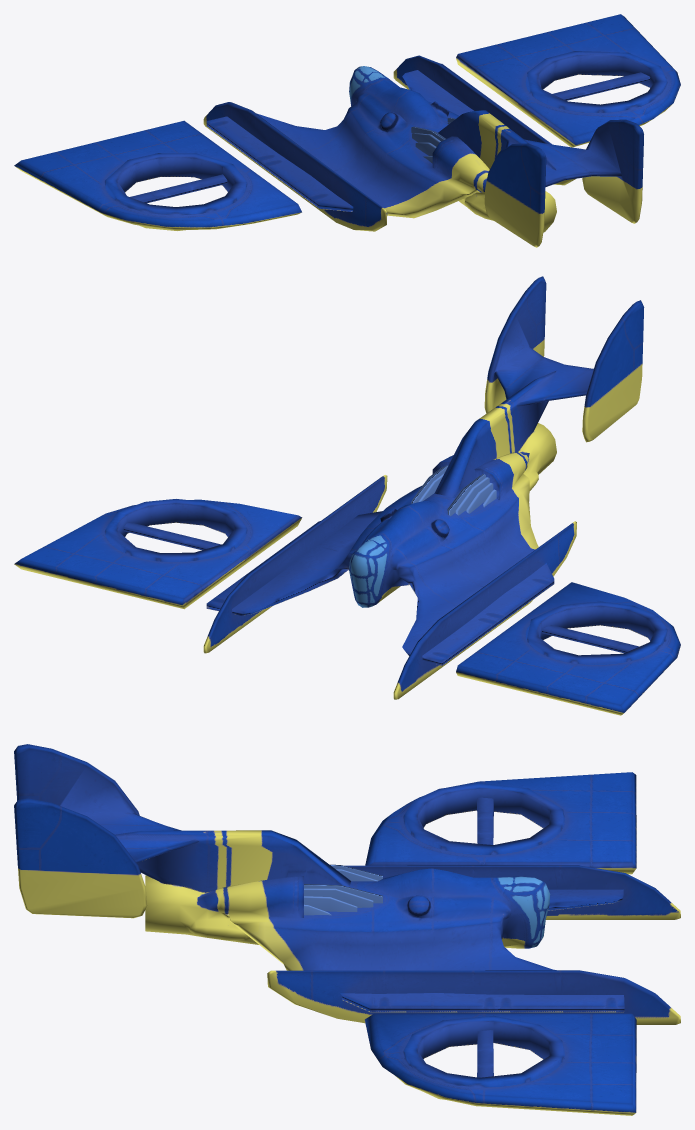
File: low_cortese_corps.obj
3 renders of one model, top to bottom at view 1: azimuth 30°, elevation 25°; view 2: azimuth 150°, elevation 25°; view 3: azimuth 270°, elevation 25°, orthographic. The views are drawn at different scales.
Parts seen in each view (by area): view 1: low_centre; view 2: low_centre; view 3: low_centre.
Part boxes in pixels (x1,y1,x2,y2): low_centre: (14, 14, 680, 247); low_centre: (14, 276, 680, 715); low_centre: (14, 744, 680, 1115).
Size of the model in its own units: 970 by 269 by 809.
Materials: 1 (1 with a texture image).
